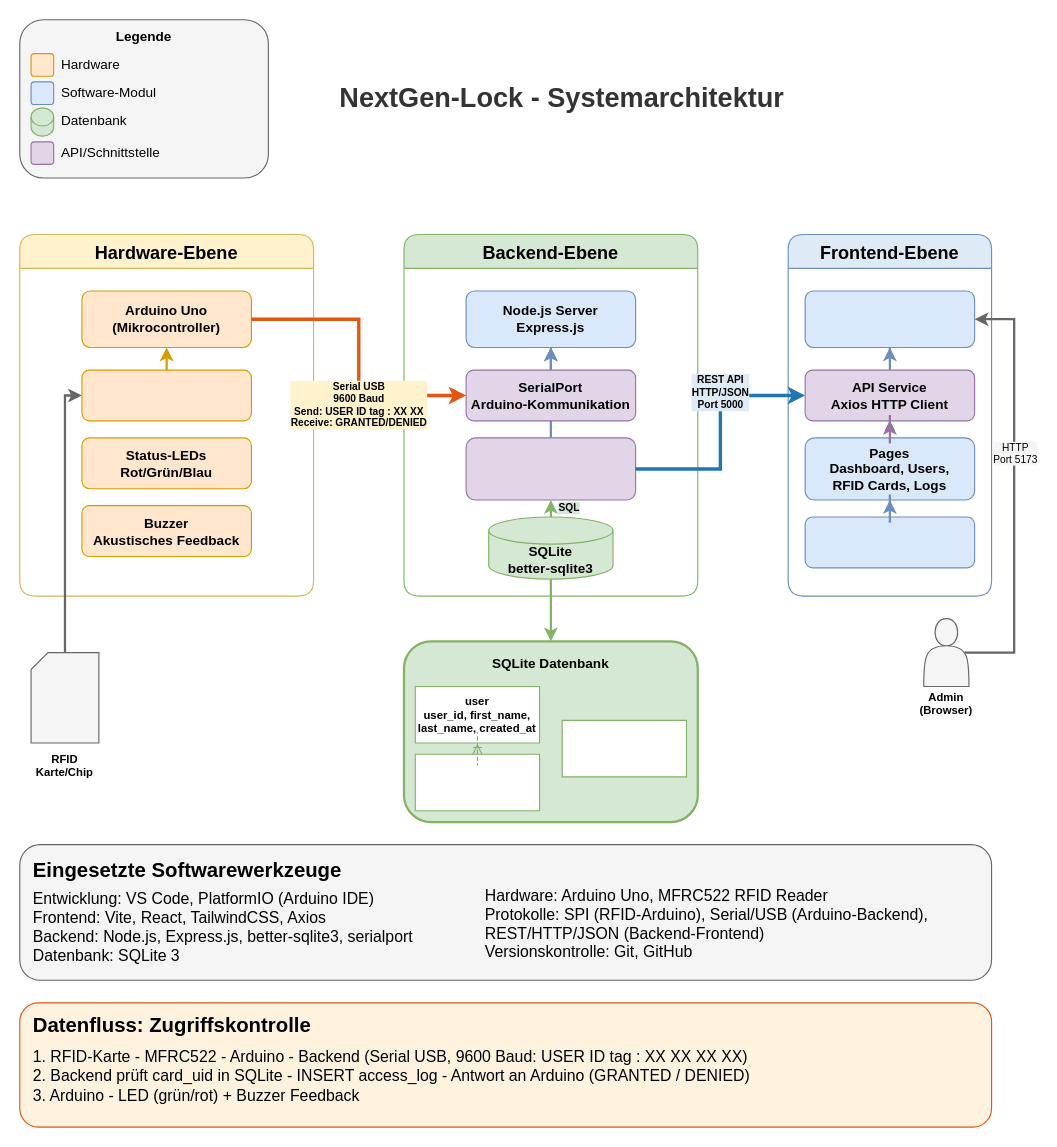
This 1057x1147 diagram has some shape labels left out. Each missing label, with the centre of its shape:
"access_log log_id, card_uid, access_time, granted" belongs at pixel 623 748.
"MFRC522 RFID-Reader" belongs at pixel 166 395.
"React App Vite Build Tool" belongs at pixel 889 318.
"REST API /api/users, /api/cards, /api/logs" belongs at pixel 550 468.
"rfid_card card_uid, user_id, authorized, added_on" belongs at pixel 477 782.
"UI Components TailwindCSS Styling" belongs at pixel 889 542.
